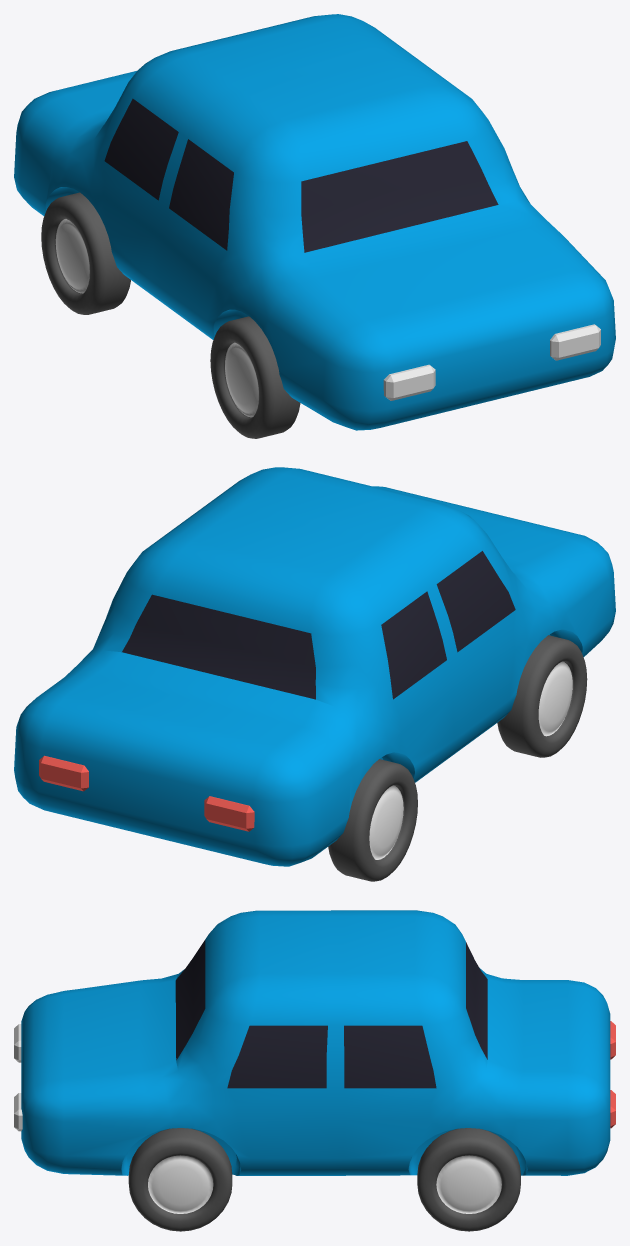
The model's file is MiniCar.fbx.
3 renders of one model, top to bottom at view 1: azimuth 30°, elevation 25°; view 2: azimuth 150°, elevation 25°; view 3: azimuth 270°, elevation 25°, orthographic. The views are drawn at different scales.
Visible parts, largest first — view 1: Body, WheelBackR, WheelFrontR, FrontLightR, FrontLightL; view 2: Body, WheelFrontR, WheelBackR, RearLightR, RearLightL; view 3: Body, WheelFrontL, WheelBackL.
Part boxes in pixels (x1,y1,x2,y2): Body: (14, 14, 615, 430); WheelBackR: (41, 192, 130, 314); WheelFrontR: (210, 316, 300, 438); FrontLightR: (383, 364, 435, 400); FrontLightL: (550, 324, 600, 360); Body: (14, 467, 615, 866); WheelFrontR: (497, 635, 587, 757); WheelBackR: (328, 759, 417, 881); RearLightR: (204, 796, 254, 831); RearLightL: (39, 755, 88, 791); Body: (21, 910, 610, 1175); WheelFrontL: (128, 1128, 232, 1231); WheelBackL: (417, 1128, 520, 1231).
Size of the model in its own units: 1.09 by 0.8282 by 2.04.
